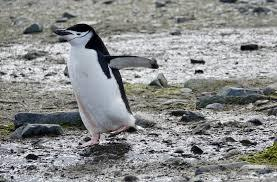chinstrap: (56, 18, 149, 153)
